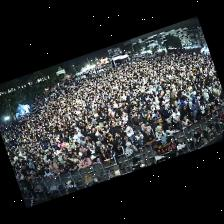person: (113, 145, 125, 169), (172, 107, 181, 129), (143, 130, 156, 145), (79, 155, 92, 169), (152, 118, 162, 135), (50, 161, 63, 174), (99, 148, 111, 162), (163, 123, 177, 135), (104, 138, 114, 154), (65, 160, 78, 172), (126, 142, 137, 156), (164, 104, 172, 123), (48, 160, 59, 173), (155, 126, 166, 139), (89, 127, 98, 142), (133, 137, 143, 150), (82, 148, 95, 158), (96, 141, 105, 155), (192, 99, 199, 117), (142, 105, 149, 123), (182, 116, 193, 127), (195, 109, 205, 121), (122, 136, 132, 147), (113, 133, 122, 145), (126, 126, 134, 139), (57, 151, 65, 164), (134, 112, 144, 122), (35, 168, 45, 178), (70, 153, 80, 163), (186, 111, 195, 122), (67, 147, 76, 158), (135, 130, 143, 142), (87, 143, 95, 155), (142, 124, 152, 133), (117, 128, 126, 138), (53, 154, 61, 165), (215, 97, 222, 109), (45, 166, 52, 178), (109, 123, 117, 133), (209, 102, 216, 113), (91, 155, 99, 164), (68, 140, 76, 149), (17, 172, 25, 180), (200, 97, 204, 113), (123, 113, 128, 124), (31, 171, 36, 182), (137, 121, 142, 131), (79, 146, 83, 156)
